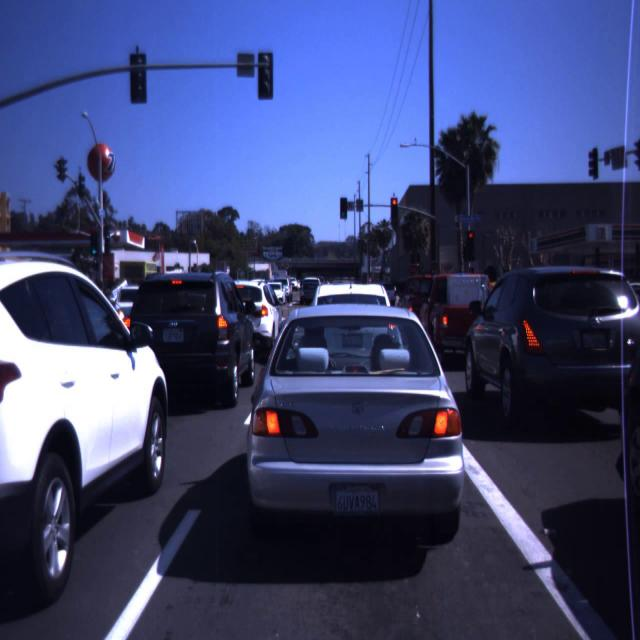go left: (337, 195, 349, 218), (90, 241, 98, 255)
go left traffic light: (337, 195, 349, 218), (90, 241, 98, 255)
stop: (390, 198, 399, 216)
stop traffic light: (390, 198, 399, 216)
